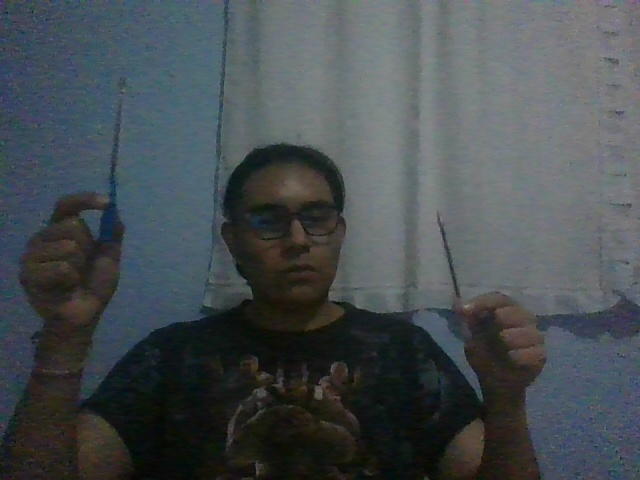pluma: (98, 76, 126, 244), (435, 208, 464, 315)
